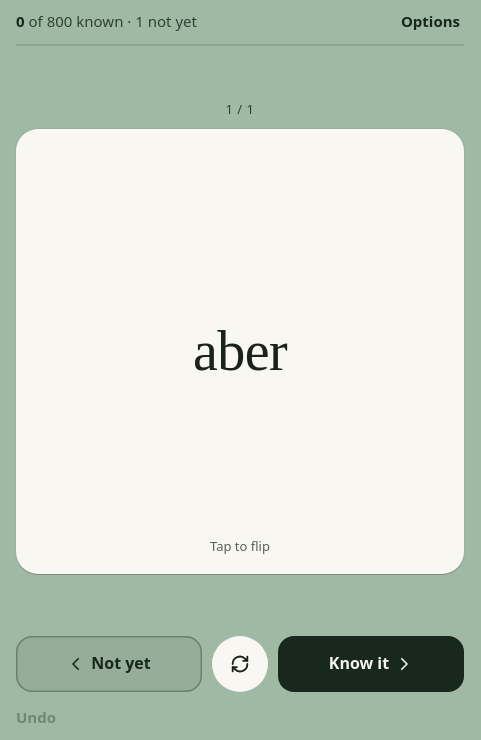
it: App › review deck shows only "not yet" cards, then the batch-end screen
Expected: the text "1 / 1" is shown, [226,100,255,118]
Click the button "Know it".
click(371, 664)  # box [278,636,464,692]
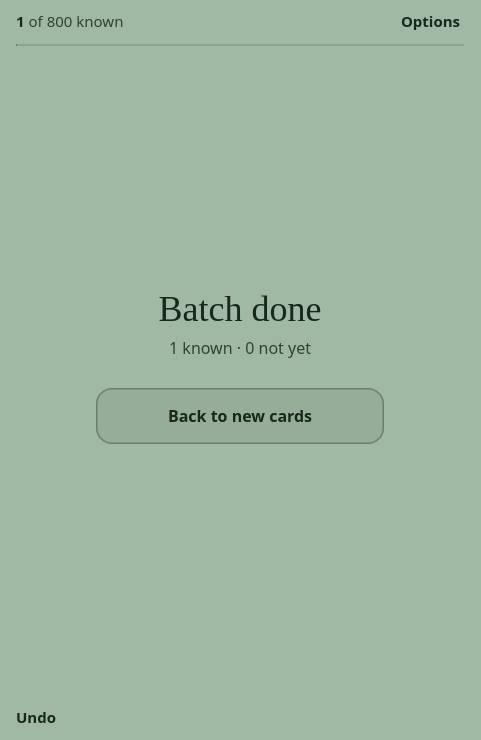
Expected: the heading "Batch done" is shown, [158,289,322,329]
